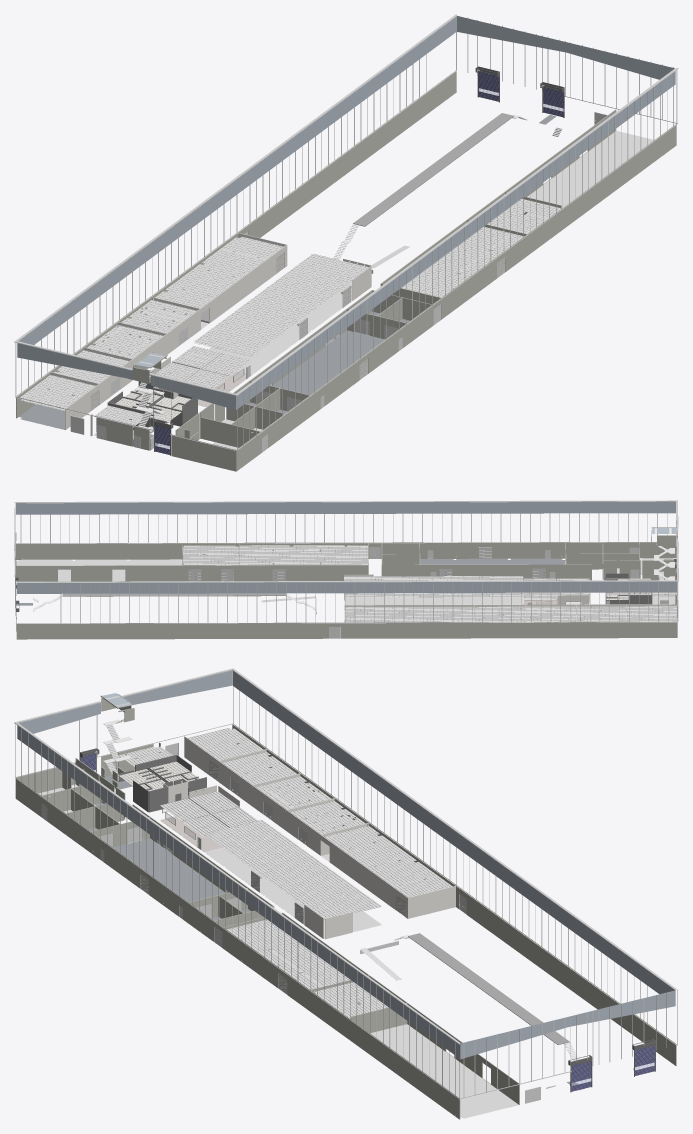
Rendered from pt107-l1t1-1542-107-con-ed-arq-mo-0001-r01.glb.
The picture shows the model from 3 angles, top to bottom: view 1: azimuth 30°, elevation 25°; view 2: azimuth 150°, elevation 25°; view 3: azimuth 270°, elevation 25°; orthographic projection. The views are drawn at different scales.
Visible parts, largest first — view 1: 3IsmCmo4j5YPzE1jY7C96J, 3I1lHUscfCD9deBrtB9xP8, 0Ri1wjVa95jQiaGGR3w7di, 0aluqU9yXCOxShPDFzjqP7, 3IsmCmo4j5YPzE1jY7CAkK, 3IsmCmo4j5YPzE1jY7CAf0, 23kqNTpMbDHeiBDHooDCqK, 3I1lHUscfCD9deBrtB9xiO, 30AtJ8Cm1FuelADMa5Anr9, 23kqNTpMbDHeiBDHooDDnh, 3IsmCmo4j5YPzE1jY7CAba, 3REifo_IX1I9buyQLTEEU_ (+21 smaller); view 2: 3IsmCmo4j5YPzE1jY7CAkK, 0aluqU9yXCOxShPDFzjqP7, 0Ri1wjVa95jQiaGGR3w7di, 3IsmCmo4j5YPzE1jY7C96J, 3IsmCmo4j5YPzE1jY7CAkE, 3I1lHUscfCD9deBrtB9xiO, 0QYpS$5Sz2Jf_P2oJKLEuT, 3IsmCmo4j5YPzE1jY7CAf0, 3I1lHUscfCD9deBrtB9xP8, 23kqNTpMbDHeiBDHooDCqK, 1QCYDTLb15QR7QSudmKAR7, 3REifo_IX1I9buyQLTEFvL (+18 smaller); view 3: 3IsmCmo4j5YPzE1jY7C96J, 0Ri1wjVa95jQiaGGR3w7di, 3I1lHUscfCD9deBrtB9xP8, 0aluqU9yXCOxShPDFzjqP7, 3IsmCmo4j5YPzE1jY7CAkK, 23kqNTpMbDHeiBDHooDCqK, 3IsmCmo4j5YPzE1jY7CAf0, 3I1lHUscfCD9deBrtB9xiO, 3IsmCmo4j5YPzE1jY7CAba, 30AtJ8Cm1FuelADMa5Anr9, 23kqNTpMbDHeiBDHooDDnh, 3REifo_IX1I9buyQLTEEU_ (+18 smaller).
Boxes of the visible parts, x1=… form: 3IsmCmo4j5YPzE1jY7C96J: x1=236, y1=124, x2=676, y2=470; 3I1lHUscfCD9deBrtB9xP8: x1=194, y1=254, x2=368, y2=355; 0Ri1wjVa95jQiaGGR3w7di: x1=19, y1=16, x2=456, y2=344; 0aluqU9yXCOxShPDFzjqP7: x1=236, y1=71, x2=675, y2=409; 3IsmCmo4j5YPzE1jY7CAkK: x1=16, y1=71, x2=456, y2=418; 3IsmCmo4j5YPzE1jY7CAf0: x1=153, y1=237, x2=282, y2=308; 23kqNTpMbDHeiBDHooDCqK: x1=527, y1=131, x2=653, y2=208; 3I1lHUscfCD9deBrtB9xiO: x1=401, y1=227, x2=523, y2=297; 30AtJ8Cm1FuelADMa5Anr9: x1=457, y1=16, x2=674, y2=79; 23kqNTpMbDHeiBDHooDDnh: x1=272, y1=330, x2=384, y2=394; 3IsmCmo4j5YPzE1jY7CAba: x1=124, y1=245, x2=287, y2=385; 3REifo_IX1I9buyQLTEEU_: x1=17, y1=343, x2=235, y2=409; 3IsmCmo4j5YPzE1jY7CAkK: x1=16, y1=622, x2=677, y2=639; 0aluqU9yXCOxShPDFzjqP7: x1=15, y1=501, x2=675, y2=514; 0Ri1wjVa95jQiaGGR3w7di: x1=16, y1=581, x2=676, y2=593; 3IsmCmo4j5YPzE1jY7C96J: x1=15, y1=542, x2=676, y2=559; 3IsmCmo4j5YPzE1jY7CAkE: x1=16, y1=565, x2=368, y2=581; 3I1lHUscfCD9deBrtB9xiO: x1=239, y1=545, x2=367, y2=565; 0QYpS$5Sz2Jf_P2oJKLEuT: x1=382, y1=564, x2=591, y2=580; 3IsmCmo4j5YPzE1jY7CAf0: x1=345, y1=607, x2=473, y2=622; 3I1lHUscfCD9deBrtB9xP8: x1=344, y1=576, x2=522, y2=597; 23kqNTpMbDHeiBDHooDCqK: x1=15, y1=559, x2=182, y2=581; 1QCYDTLb15QR7QSudmKAR7: x1=344, y1=597, x2=523, y2=610; 3REifo_IX1I9buyQLTEFvL: x1=15, y1=580, x2=678, y2=582; 3IsmCmo4j5YPzE1jY7C96J: x1=16, y1=778, x2=460, y2=1119; 0Ri1wjVa95jQiaGGR3w7di: x1=232, y1=671, x2=674, y2=994; 3I1lHUscfCD9deBrtB9xP8: x1=205, y1=820, x2=381, y2=920; 0aluqU9yXCOxShPDFzjqP7: x1=17, y1=725, x2=460, y2=1058; 3IsmCmo4j5YPzE1jY7CAkK: x1=232, y1=724, x2=676, y2=1065; 23kqNTpMbDHeiBDHooDCqK: x1=370, y1=1024, x2=518, y2=1118; 3IsmCmo4j5YPzE1jY7CAf0: x1=325, y1=825, x2=452, y2=897; 3I1lHUscfCD9deBrtB9xiO: x1=227, y1=919, x2=350, y2=989; 3IsmCmo4j5YPzE1jY7CAba: x1=244, y1=779, x2=408, y2=918; 30AtJ8Cm1FuelADMa5Anr9: x1=460, y1=990, x2=675, y2=1059; 23kqNTpMbDHeiBDHooDDnh: x1=113, y1=838, x2=225, y2=901; 3REifo_IX1I9buyQLTEEU_: x1=18, y1=670, x2=232, y2=733.
Bounding box in the file's own units: 154 × 16.7 × 115.
